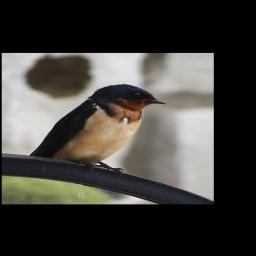Swallow: (27, 83, 168, 175)
